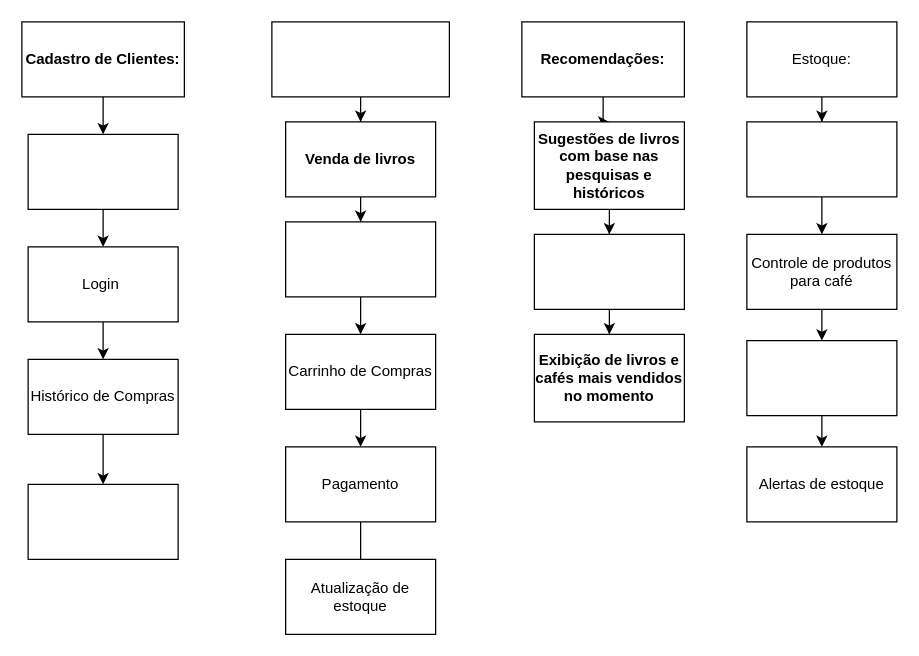
This 919x656 diagram has some shape labels left out. Here are the shapes that lost their labels. From the top down, the centre of each, then its label:
the point at 360,59: Cadastro de vendas:
the point at 102,171: Cadastro (nome, cpf, número, email)
the point at 821,159: Controle de entrada e saída de livros
the point at 360,259: Venda de café
the point at 608,271: Indicações de livros semelhantes
the point at 821,377: Atualizações após venda
the point at 102,521: Preferências de Leitura
